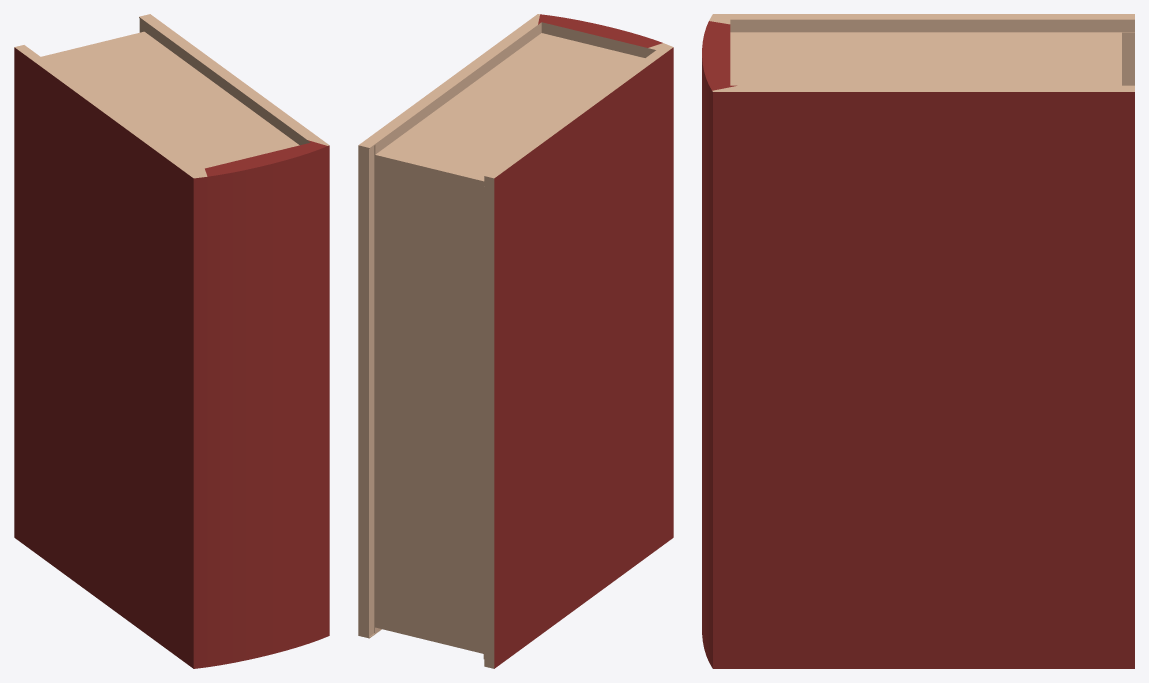
The model's file is Llibre.fbx.
The picture shows the model from 3 angles, left to right: view 1: azimuth 30°, elevation 25°; view 2: azimuth 150°, elevation 25°; view 3: azimuth 270°, elevation 25°; orthographic projection. The views are drawn at different scales.
Visible parts, largest first — view 1: Llibre; view 2: Llibre; view 3: Llibre.
Boxes of the visible parts, <box> form: Llibre: <box>14,14,329,668</box>; Llibre: <box>358,14,673,668</box>; Llibre: <box>702,14,1134,668</box>.
Size of the model in its own units: 14.41 by 49.69 by 33.79.
